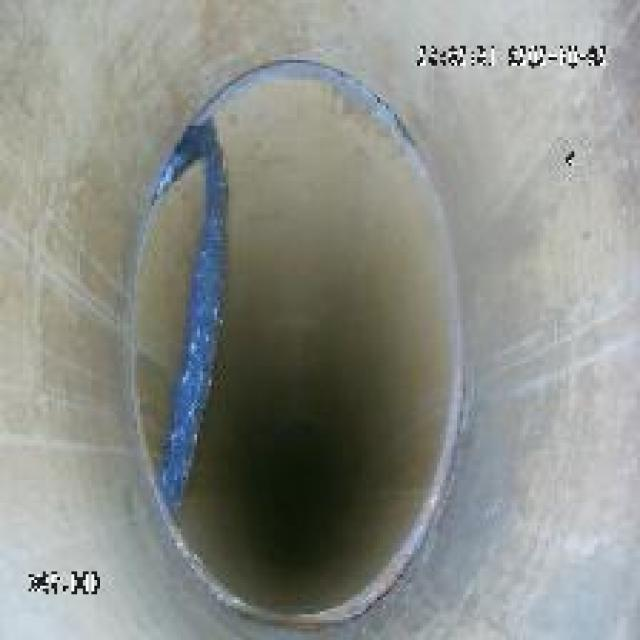joint: (106, 49, 466, 628)
